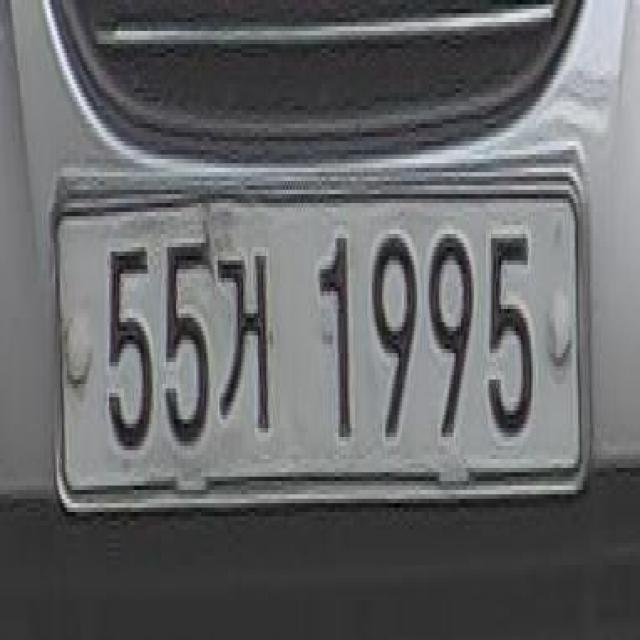1: (313, 217, 360, 457)
5: (484, 216, 539, 444), (157, 224, 210, 448), (104, 230, 152, 454)
9: (423, 218, 477, 452), (364, 222, 420, 442)
geo: (218, 233, 275, 463)
license_plate: (42, 145, 594, 503)
